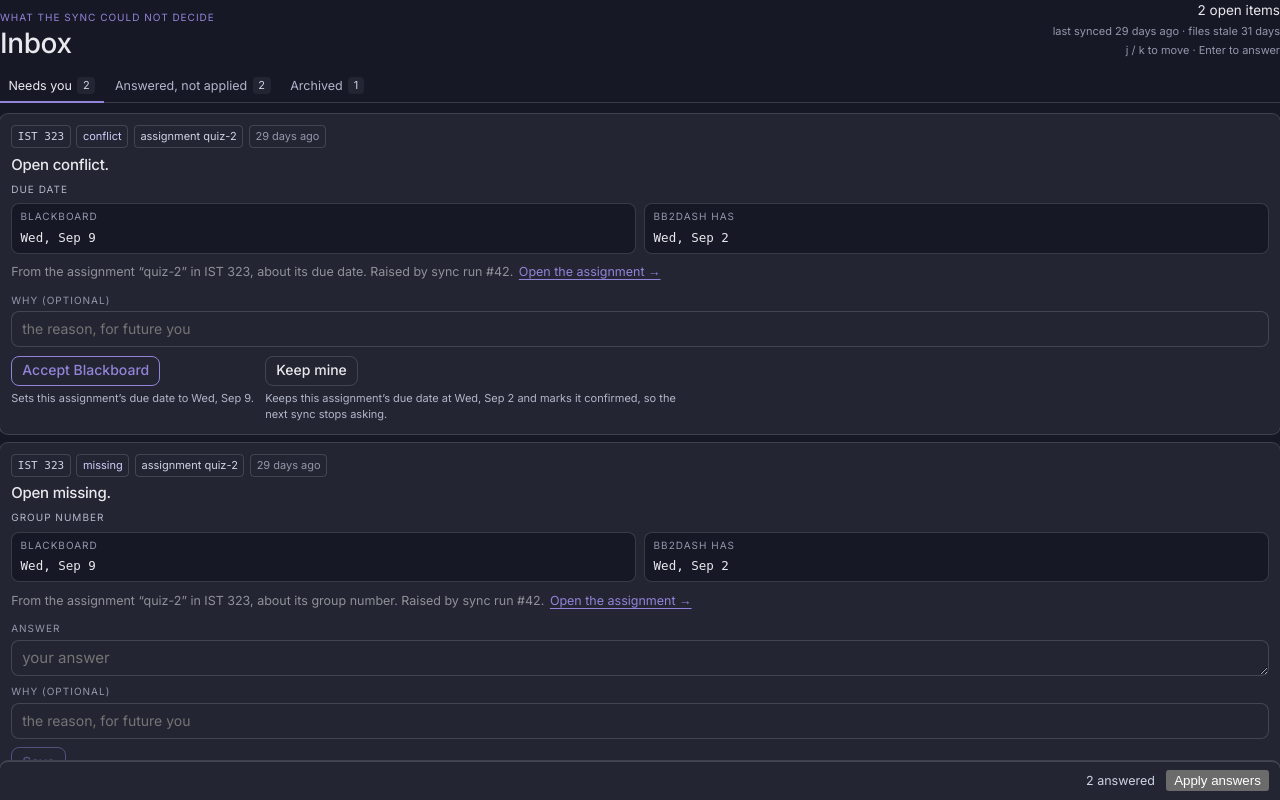
Inbox — R3-3 review queue › filters to answered and dismissed rows under Answered, not applied
Click the tab "Answered, not applied 2" at (193, 86), box [106,70,279,103]
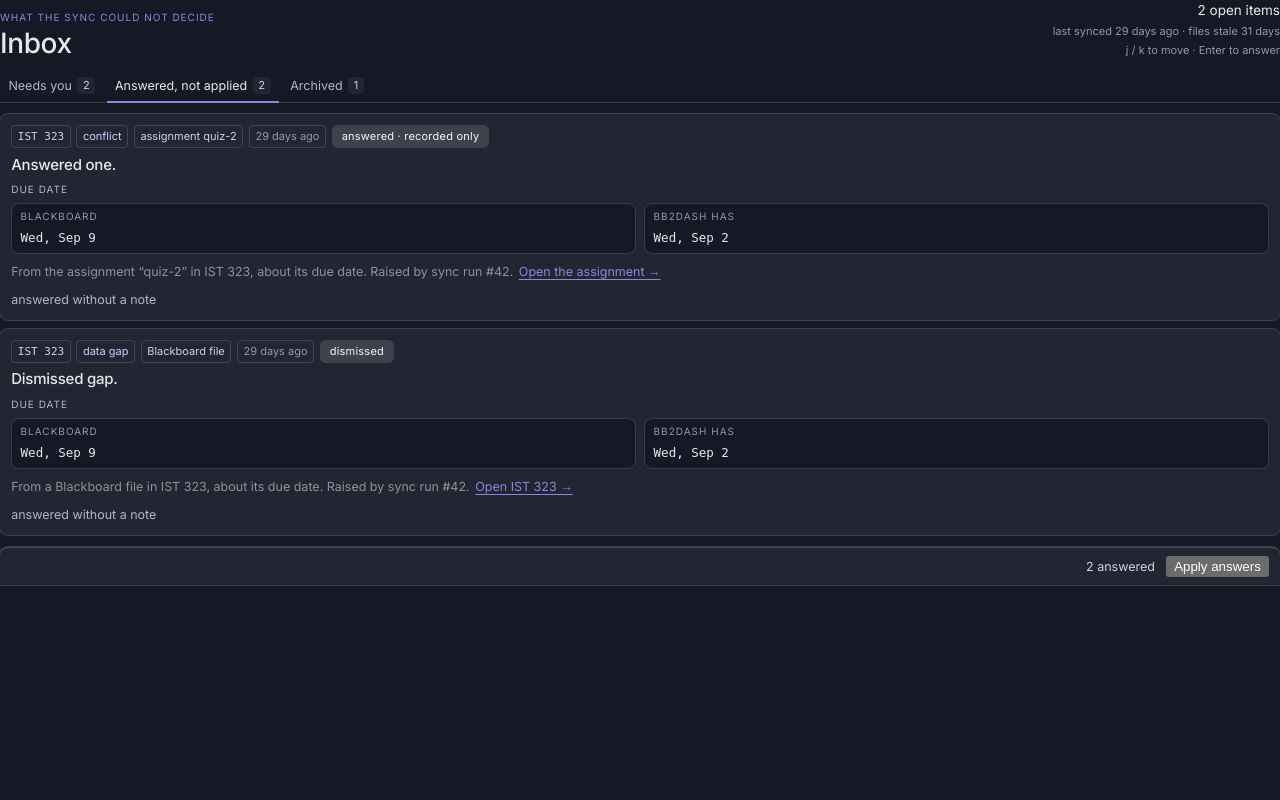
Now the heading "Answered one." is shown, box [11,155,116,174]
Now the heading "Dismissed gap." is shown, box [11,370,118,388]
Now the heading "Open conflict." is gone
